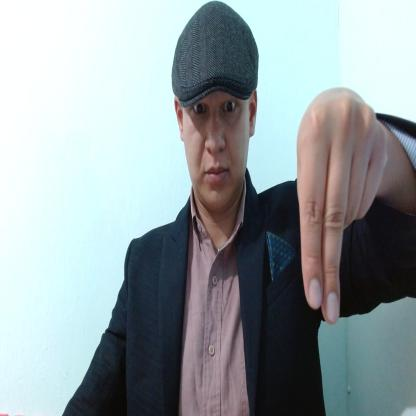N: (296, 87, 390, 324)
